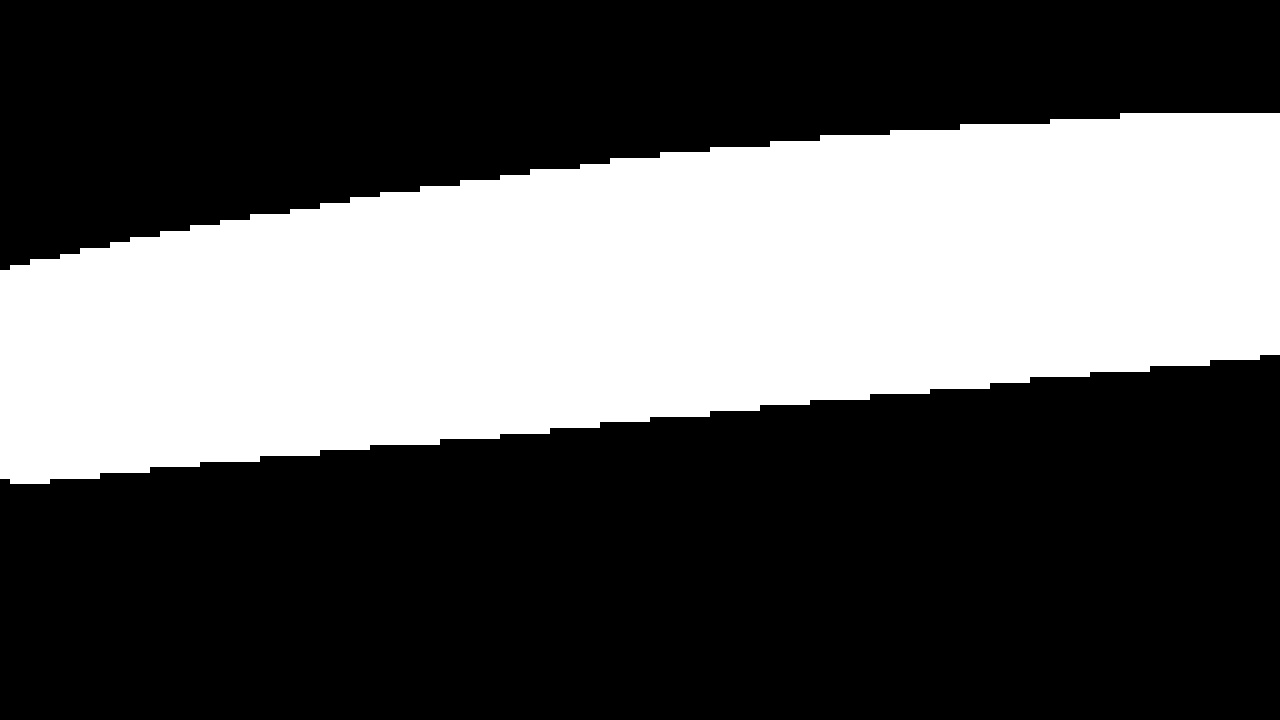Turbine: (6, 96, 1275, 501)
